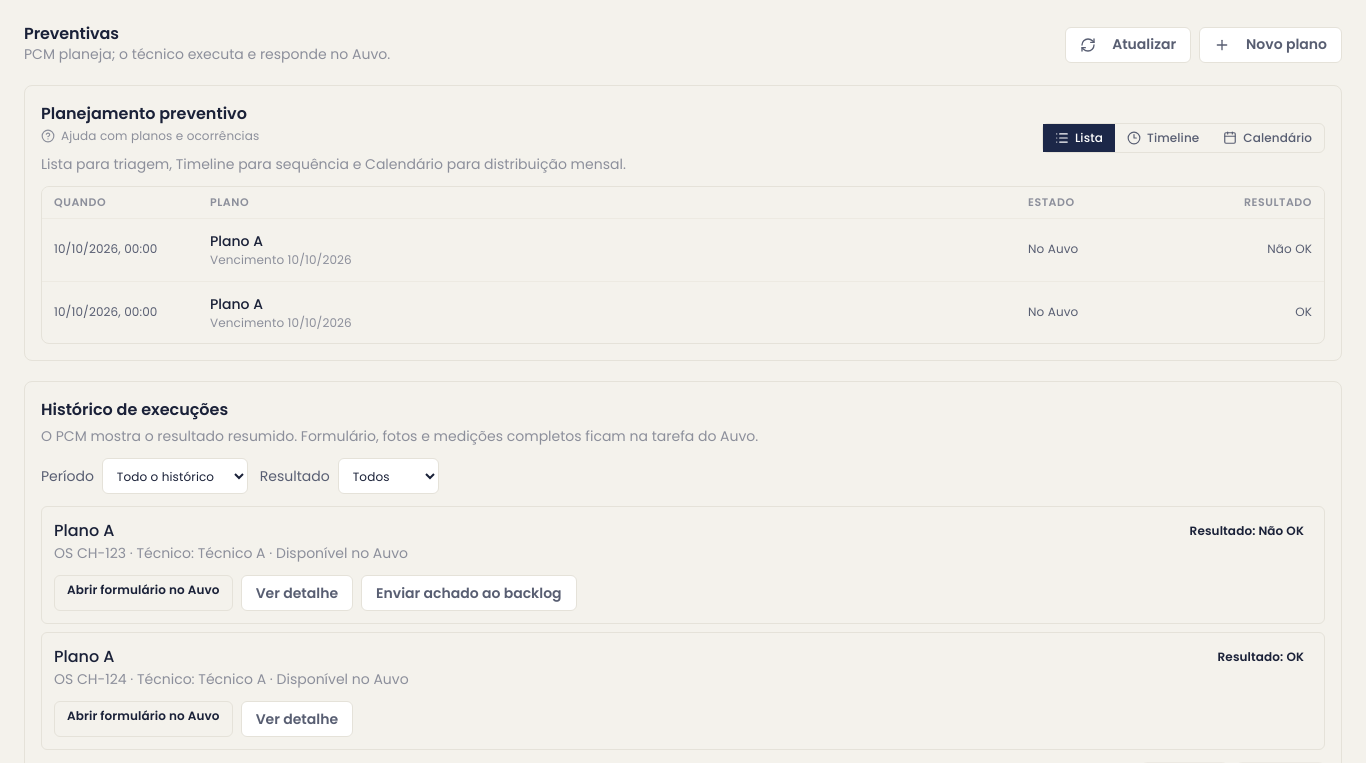
PreventivasWorkspace — E01-S53 / E01-S163 AC-10 e AC-15 › filtra o histórico pelo resultado consolidado
This screenshot has width=1366, height=763.
Select "Não OK" in the dropdown named "Filtrar histórico por resultado" at (388, 476), box [338,458,439,494]
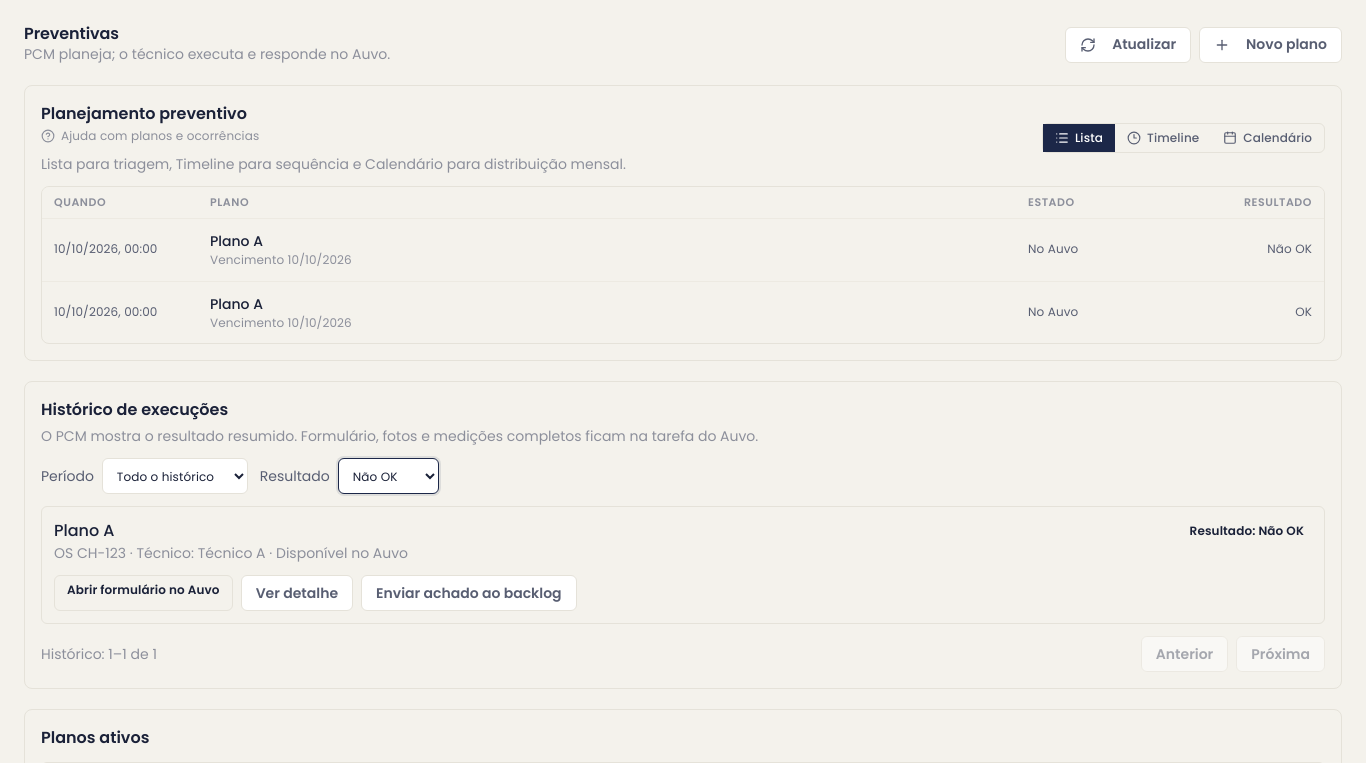
Check: the text "OS CH-123 · Técnico: Técnico A · Disponível no Auvo" is shown, box [54,543,408,563]
Check: the text "Histórico: 1–1 de 1" is shown, box [41,644,157,664]
Check: the text "OS CH-124" is gone
